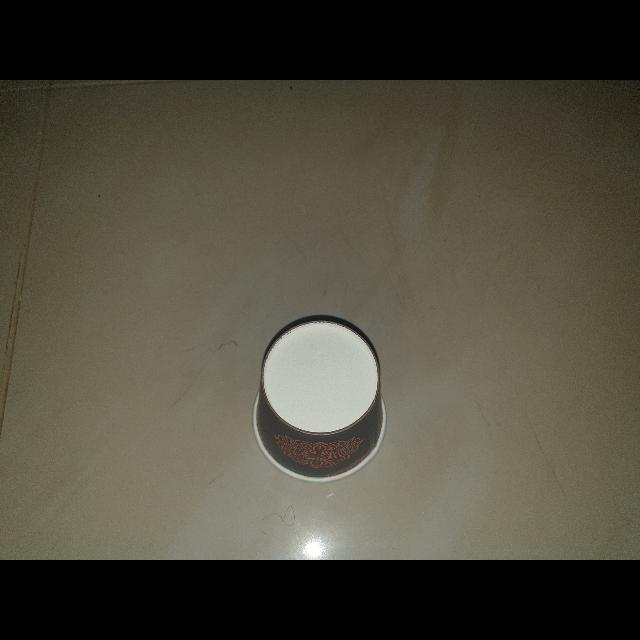trash: (248, 311, 392, 484)
